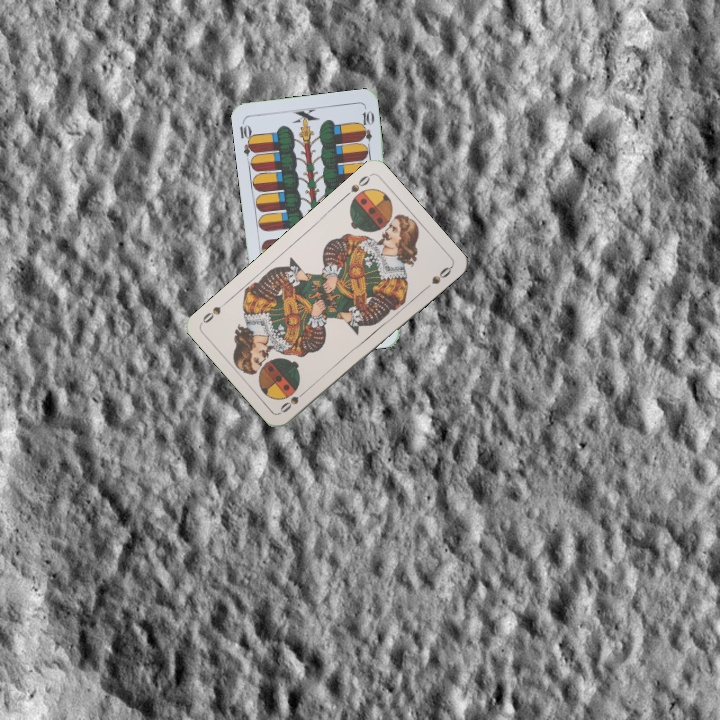E10: (236, 117, 258, 158)
SO: (276, 385, 310, 415), (339, 171, 373, 201)
